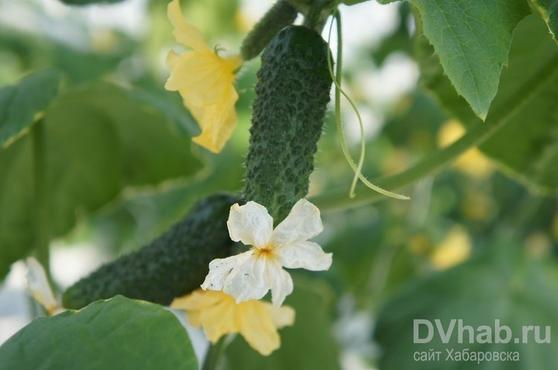cucumber: (242, 15, 341, 220)
